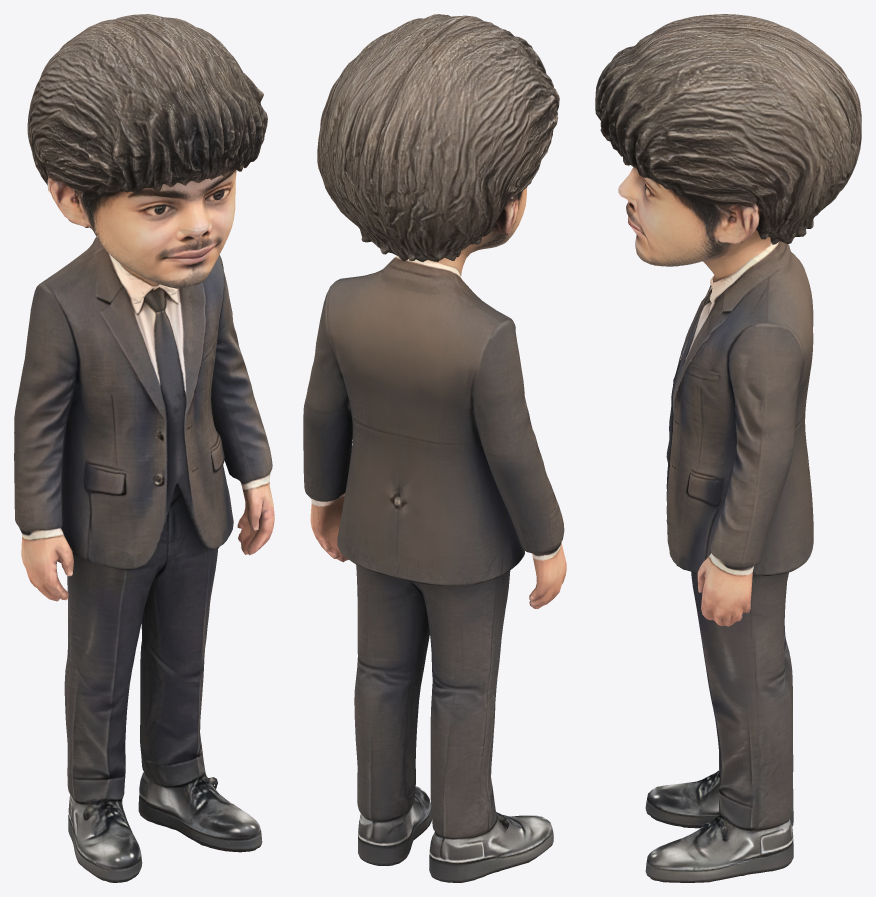
Rendered from 3d-man-in-dark-suit-with-exaggerated-head.glb.
The picture shows the model from 3 angles, left to right: view 1: azimuth 30°, elevation 25°; view 2: azimuth 150°, elevation 25°; view 3: azimuth 270°, elevation 25°; orthographic projection.
Visible parts, largest first — view 1: Mesh; view 2: Mesh; view 3: Mesh.
Part boxes in pixels (x1,y1,x2,y2): Mesh: (14, 14, 274, 882); Mesh: (303, 14, 566, 882); Mesh: (595, 14, 861, 882).
Size of the model in its own units: 0.6154 by 1.91 by 0.5638.
Materials: 1 (1 with a texture image).
